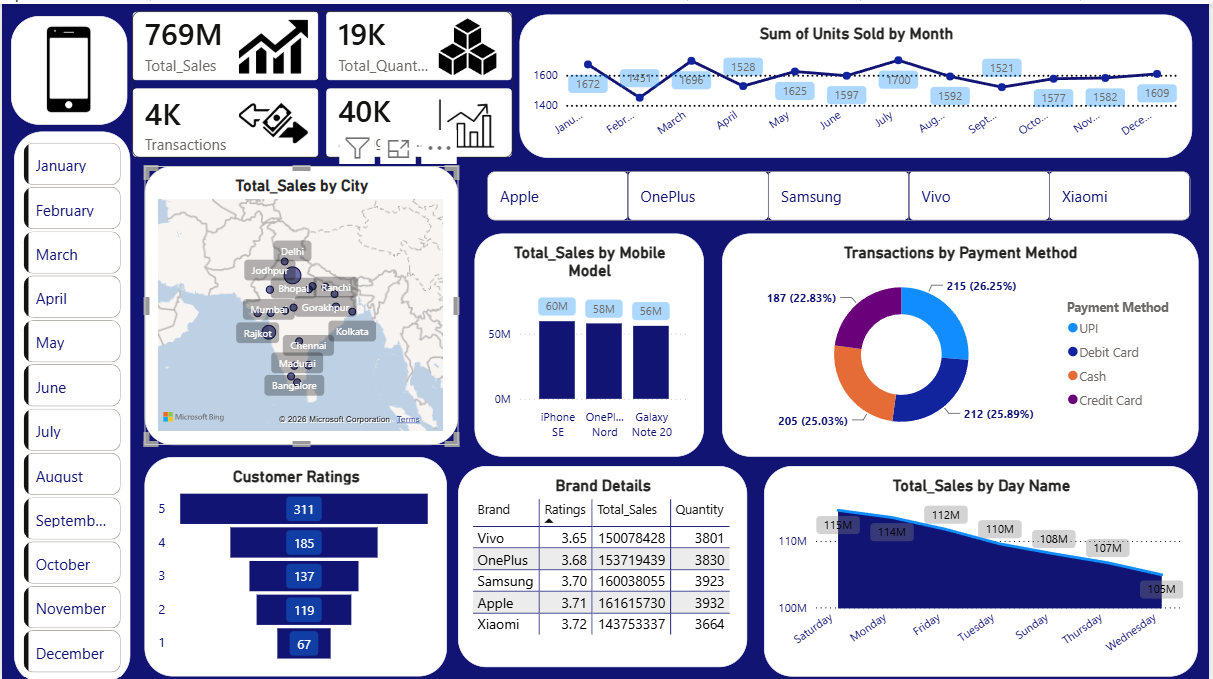

This screenshot's page, from the dashboard's own definition file:
{"tool":"powerbi","page":{"name":"Page 1","canvas":[1280,720],"ordinal":0},"visuals":[{"type":"shape","box":[10,13.3,123.3,115],"z":0},{"type":"image","box":[6.4,20.7,128.8,106.6],"z":1000},{"type":"shape","box":[13.3,135,123.3,585],"z":2000},{"type":"advancedSlicerVisual","fields":{"Values":["Sheet1.Date.Variation.Date Hierarchy.Month"]},"box":[18.3,143.3,111.7,576.7],"z":3000},{"type":"cardVisual","fields":{"Data":["Sheet1.Total_Sales","Sheet1.Total_Quantity","Sheet1.Transactions","Sheet1.Average"]},"box":[130,0,418.3,171.7],"z":4000},{"type":"map","fields":{"Category":["Sheet1.City"],"Size":["Sheet1.Total_Sales"]},"box":[151.1,171.8,332.4,295.9],"z":5000},{"type":"lineChart","fields":{"Category":["Sheet1.Date.Variation.Date Hierarchy.Month","Sheet1.Date.Variation.Date Hierarchy.Day"],"Y":["Sum(Sheet1.Units Sold)"]},"box":[548.3,11.7,713.3,151.7],"z":6000},{"type":"clusteredColumnChart","fields":{"Category":["Sheet1.Mobile Model"],"Y":["Sheet1.Total_Sales"]},"box":[501.7,243.3,243.3,236.7],"z":7000},{"type":"donutChart","fields":{"Category":["Sheet1.Payment Method"],"Y":["Sheet1.Transactions"]},"box":[763.3,243.3,505,236.7],"z":8000},{"type":"funnel","title":"Customer Ratings","fields":{"Category":["Sheet1.Customer Ratings"],"Y":["CountNonNull(Sheet1.Customer Ratings)"]},"box":[151.2,480.2,320.7,232.6],"z":9000},{"type":"areaChart","fields":{"Category":["Sheet1.Day Name"],"Y":["Sheet1.Total_Sales"]},"box":[808.3,490,460,223.3],"z":10000},{"type":"tableEx","title":"Brand Details","fields":{"Values":["Sheet1.Brand","Avg(Sheet1.Customer Ratings)","Sheet1.Total_Sales","Sheet1.Total_Quantity"]},"box":[483.3,490,306.7,213.3],"z":11000},{"type":"advancedSlicerVisual","fields":{"Values":["Sheet1.Brand"]},"box":[508.3,171.7,760,63.3],"z":12000}]}

Visuals, with their boxes in screenshot pixels (x1, y1, x2, y2), scaled from the page's 1280x720 canvas onto the 1213x679 screenshot:
shape: <region>9, 13, 126, 121</region>
image: <region>6, 20, 128, 120</region>
shape: <region>13, 127, 129, 678</region>
advancedSlicerVisual - Sheet1.Date.Variation.Date Hierarchy.Month: <region>17, 135, 123, 678</region>
cardVisual - Sheet1.Total_Sales x Sheet1.Total_Quantity: <region>123, 0, 520, 162</region>
map - Sheet1.City x Sheet1.Total_Sales: <region>143, 162, 458, 441</region>
lineChart - Sheet1.Date.Variation.Date Hierarchy.Month x Sheet1.Date.Variation.Date Hierarchy.Day: <region>520, 11, 1196, 154</region>
clusteredColumnChart - Sheet1.Mobile Model x Sheet1.Total_Sales: <region>475, 229, 706, 453</region>
donutChart - Sheet1.Payment Method x Sheet1.Transactions: <region>723, 229, 1202, 453</region>
"Customer Ratings" funnel: <region>143, 453, 447, 672</region>
areaChart - Sheet1.Day Name x Sheet1.Total_Sales: <region>766, 462, 1202, 673</region>
"Brand Details" tableEx: <region>458, 462, 749, 663</region>
advancedSlicerVisual - Sheet1.Brand: <region>482, 162, 1202, 222</region>
